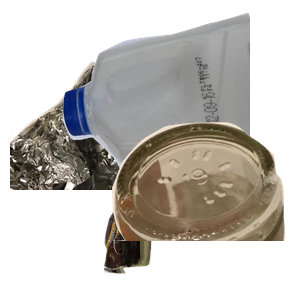glass: (89, 120, 300, 300)
metal: (10, 47, 216, 227)
plastic: (60, 10, 300, 175)
trash: (101, 157, 270, 300)
